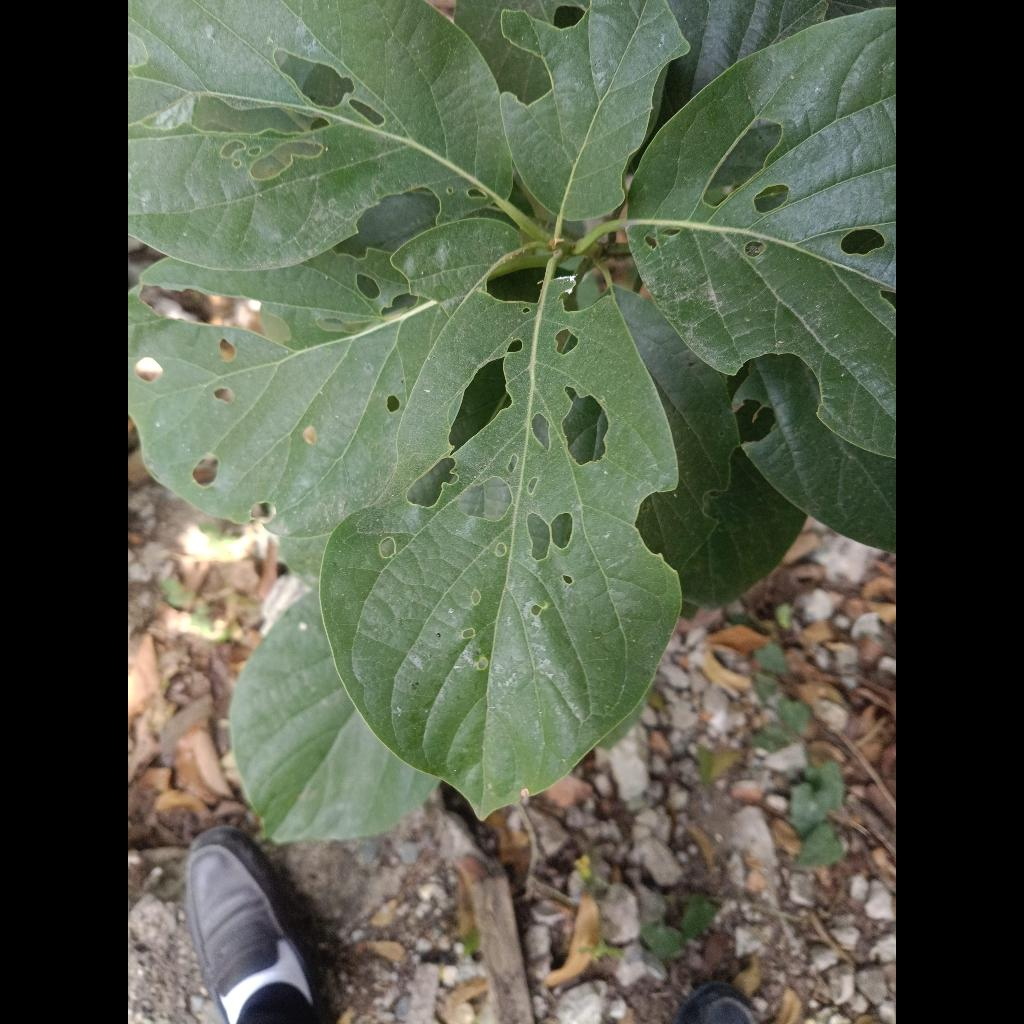Pest Infested: (320, 254, 680, 816)
